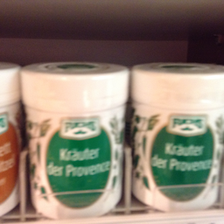spicesw: (18, 60, 129, 219), (132, 61, 224, 212)
